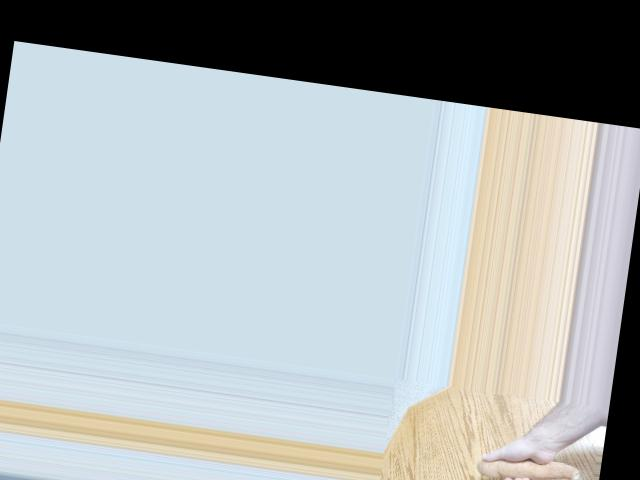sweet_potato: (474, 442, 585, 480)
